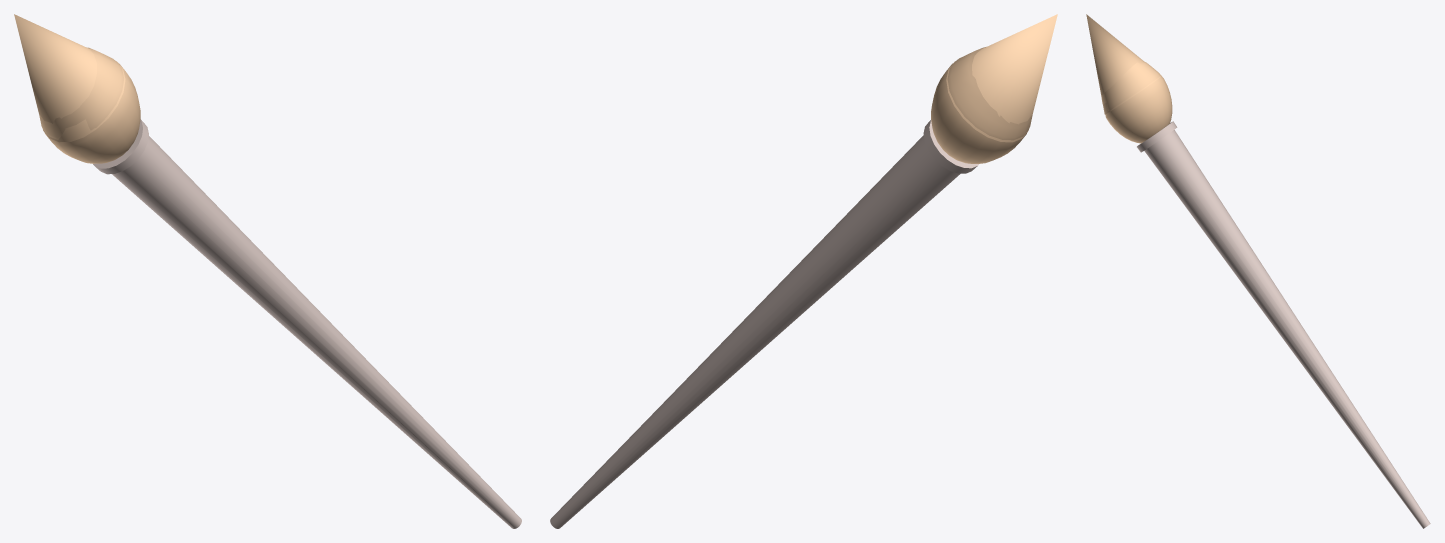
The model's file is Painbrush.fbx.
3 views of the same model, side by side, from view 1: azimuth 30°, elevation 25°; view 2: azimuth 150°, elevation 25°; view 3: azimuth 330°, elevation 25° (orthographic). The views are drawn at different scales.
Visible parts, largest first — view 1: pCylinder1, pasted__pSphere2; view 2: pCylinder1, pasted__pSphere2; view 3: pCylinder1, pasted__pSphere2.
Part boxes in pixels (box(x1,y1,x2,y2)): pCylinder1: box(93, 119, 521, 528); pasted__pSphere2: box(14, 14, 140, 163); pCylinder1: box(550, 120, 978, 528); pasted__pSphere2: box(931, 14, 1057, 163); pCylinder1: box(1137, 121, 1430, 528); pasted__pSphere2: box(1086, 14, 1172, 143).
Size of the model in its own units: 5.52 by 6.62 by 0.9647.
